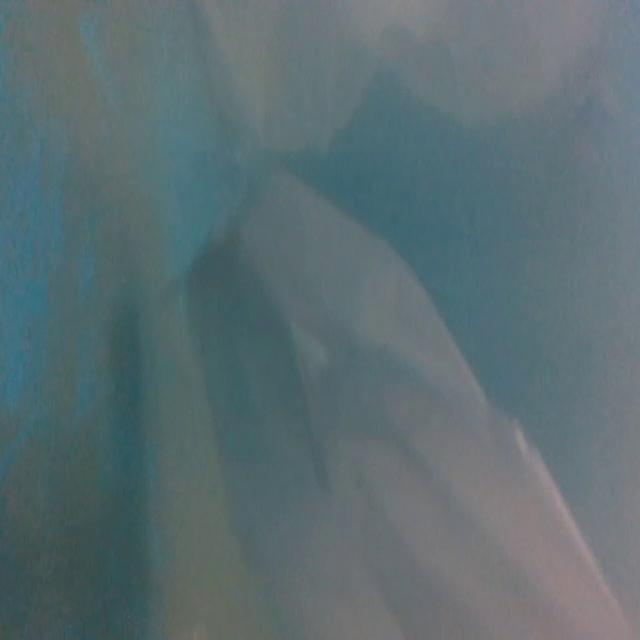plastic bags: (174, 158, 639, 640), (187, 3, 637, 141)
